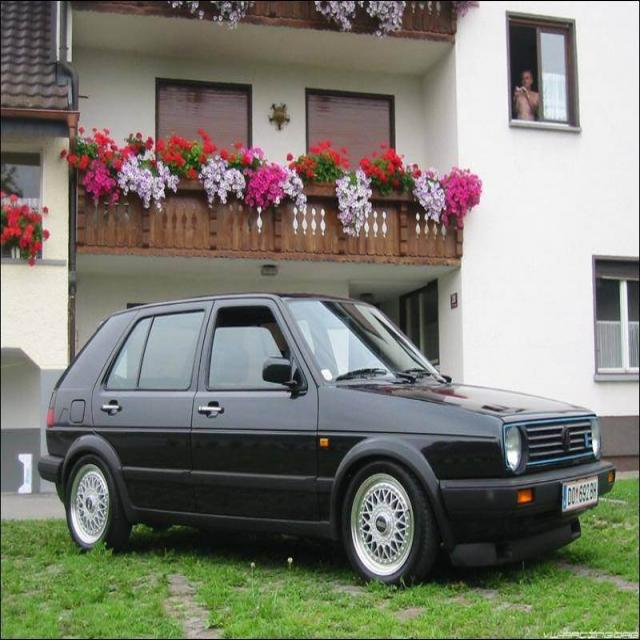car: (38, 293, 614, 587)
